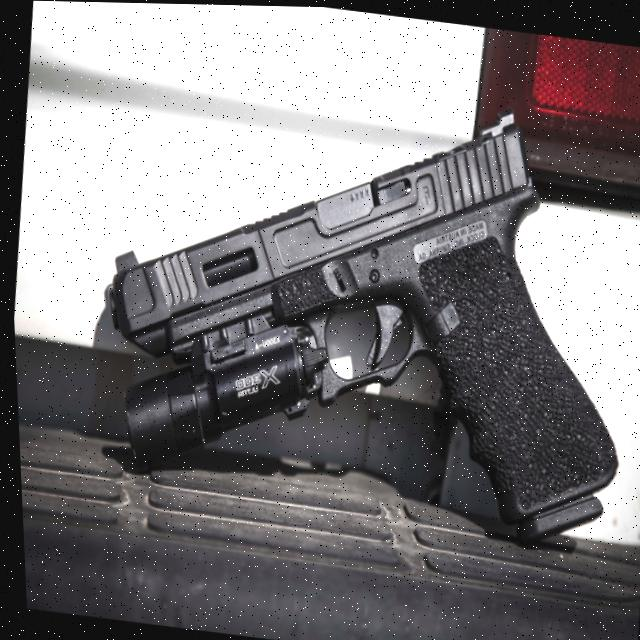pistol: (70, 57, 640, 546)
